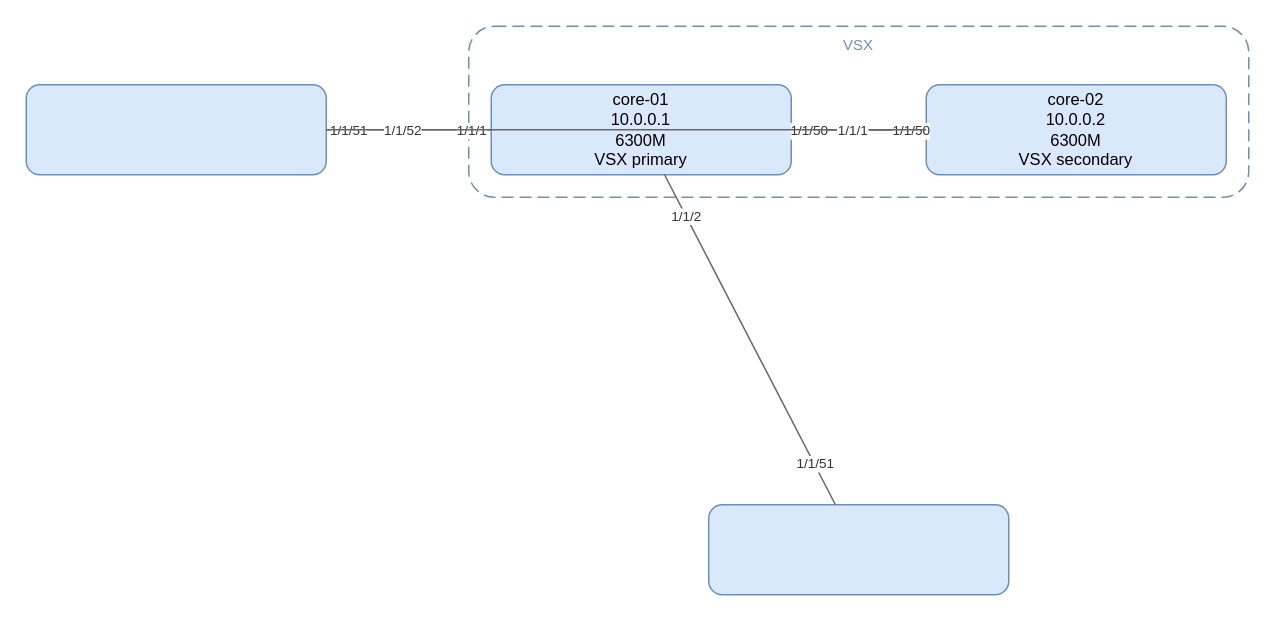
The diagram is 1275 pixels wide and 621 high, and some of its shapes have lost their labels. The shapes that lost their labels are listed below. From the top down, each one's box as (x1, y1, x2, y2) in pixels, then its label:
(25, 83, 326, 175): acc-01 10.0.0.11 6300M
(707, 503, 1009, 595): acc-02 10.0.0.12 6300M
